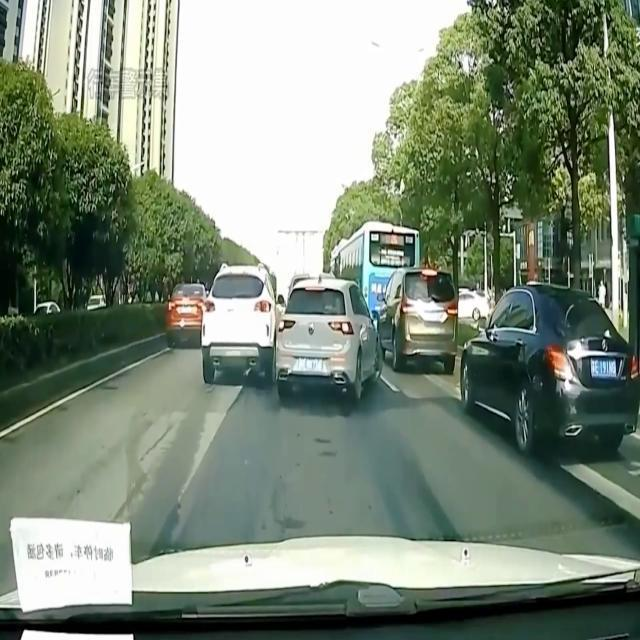non-accident: (378, 265, 636, 461), (274, 220, 458, 406), (200, 262, 384, 406), (275, 268, 457, 408), (166, 263, 284, 389)
